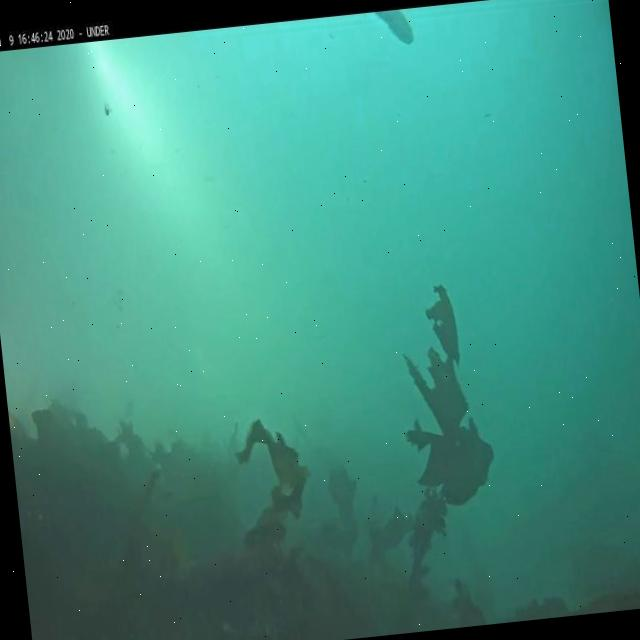fish: (374, 8, 416, 48)
